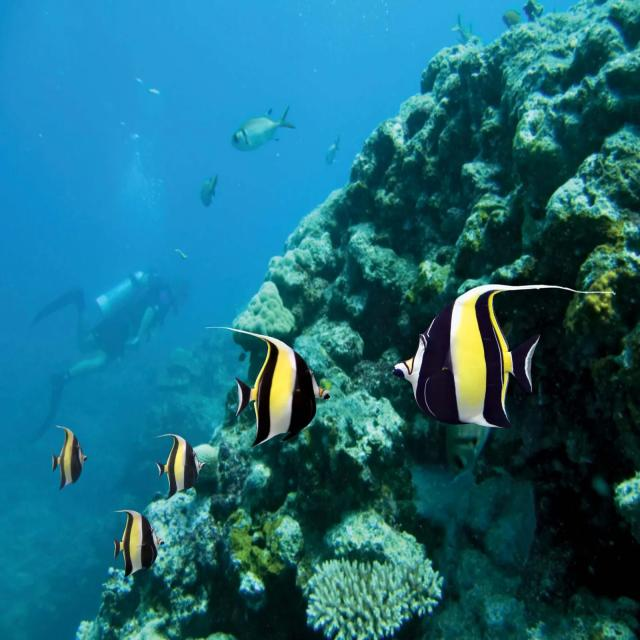MorishIdol: (391, 281, 541, 432), (204, 323, 332, 449), (112, 509, 166, 582), (155, 434, 207, 501), (52, 425, 88, 492)
